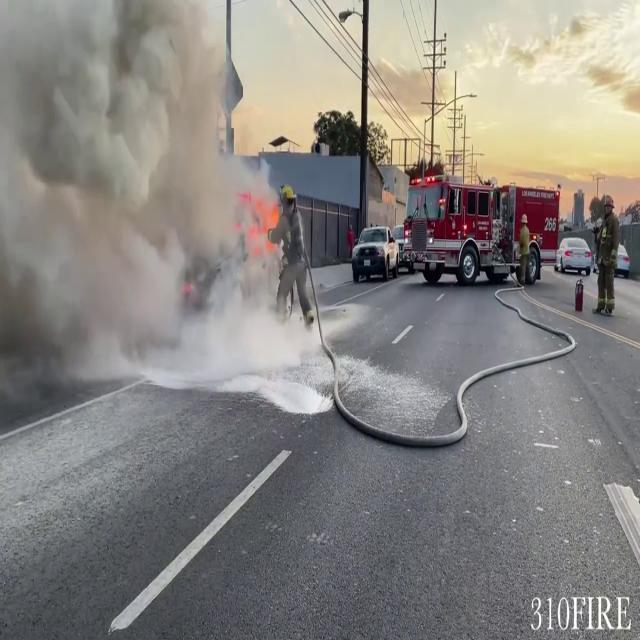Smoke: (0, 0, 285, 397)
